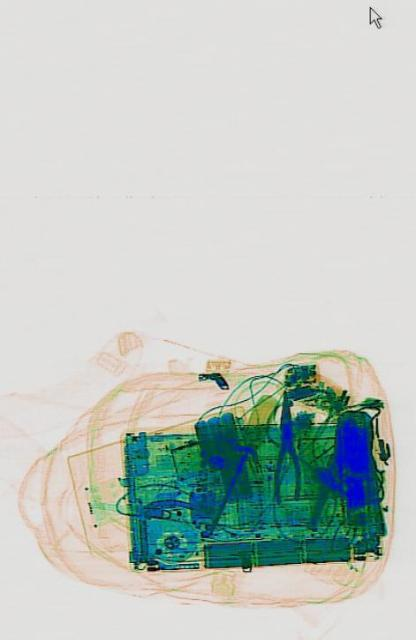Pliers: (269, 386, 299, 504)
